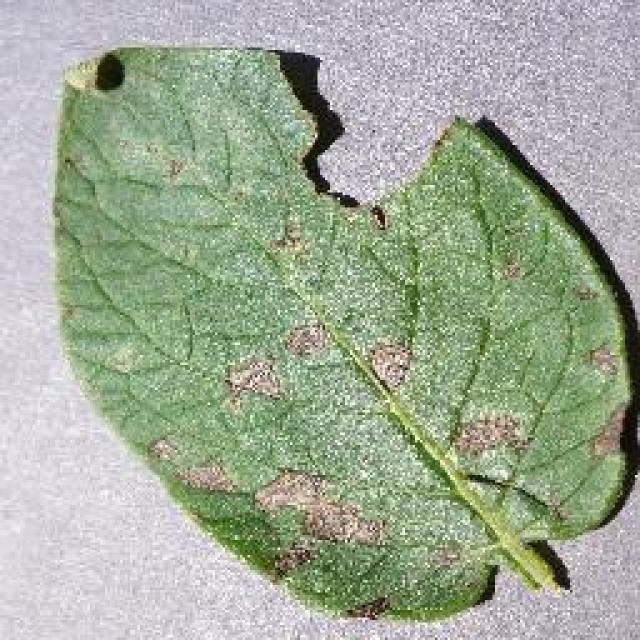early_blight: (45, 40, 637, 628)
